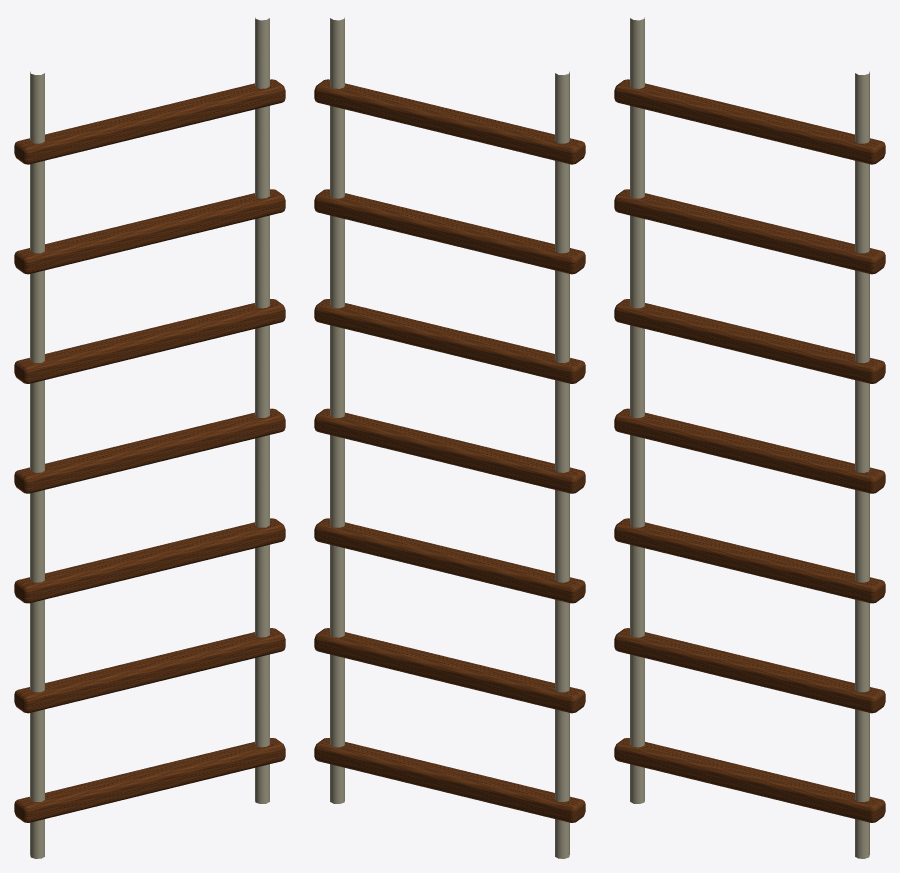
File: undercity-sewers-and-thieves-den-rope-ladder-53c556ed__27243.glb
The picture shows the model from 3 angles, left to right: view 1: azimuth 30°, elevation 25°; view 2: azimuth 150°, elevation 25°; view 3: azimuth 330°, elevation 25°; orthographic projection.
Parts seen in each view (by area): view 1: rope-ladder; view 2: rope-ladder; view 3: rope-ladder.
Boxes of the visible parts, x1,y1,x2,y2 form: rope-ladder: (14,17,285,858); rope-ladder: (314,17,585,858); rope-ladder: (614,17,885,858).
Bounding box in the file's own units: 0.7 × 2 × 0.06.
2 materials, 1 textured.
